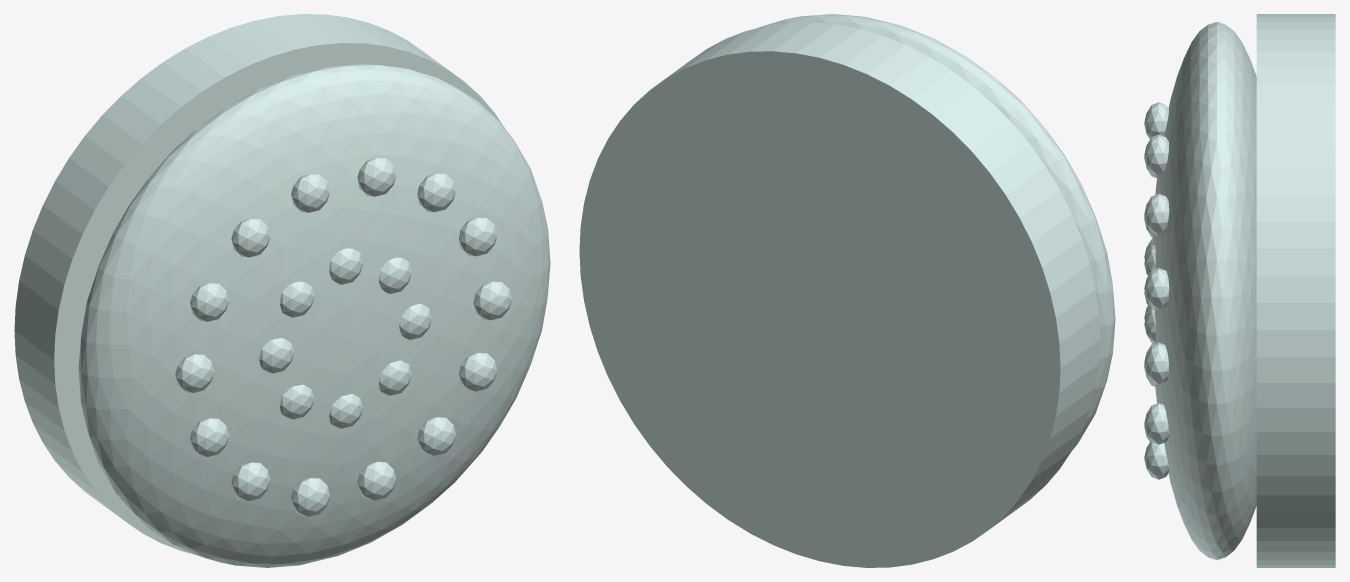
File: dranmar_pad.glb
The picture shows the model from 3 angles, left to right: view 1: azimuth 30°, elevation 25°; view 2: azimuth 150°, elevation 25°; view 3: azimuth 270°, elevation 25°; orthographic projection.
Parts seen in each view (by area): view 1: pad; view 2: pad; view 3: pad.
Part boxes in pixels (left/top/right/bottom): pad: left=14, top=14, right=550, bottom=567; pad: left=579, top=14, right=1115, bottom=567; pad: left=1144, top=14, right=1335, bottom=567.
Size of the model in its own units: 0.021 by 0.021 by 0.00725.
